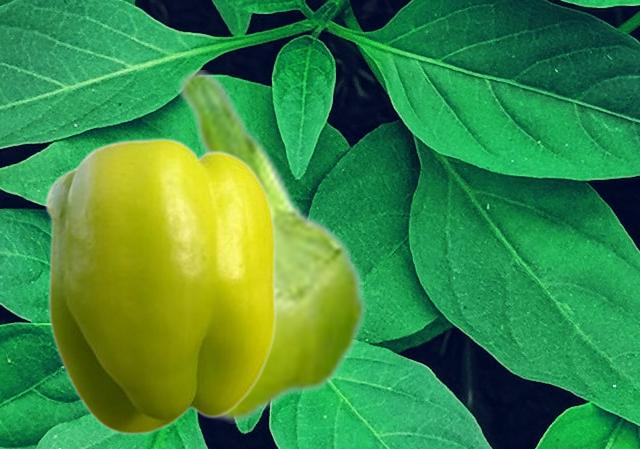bell_pepper: (168, 70, 367, 422), (44, 136, 275, 434)
